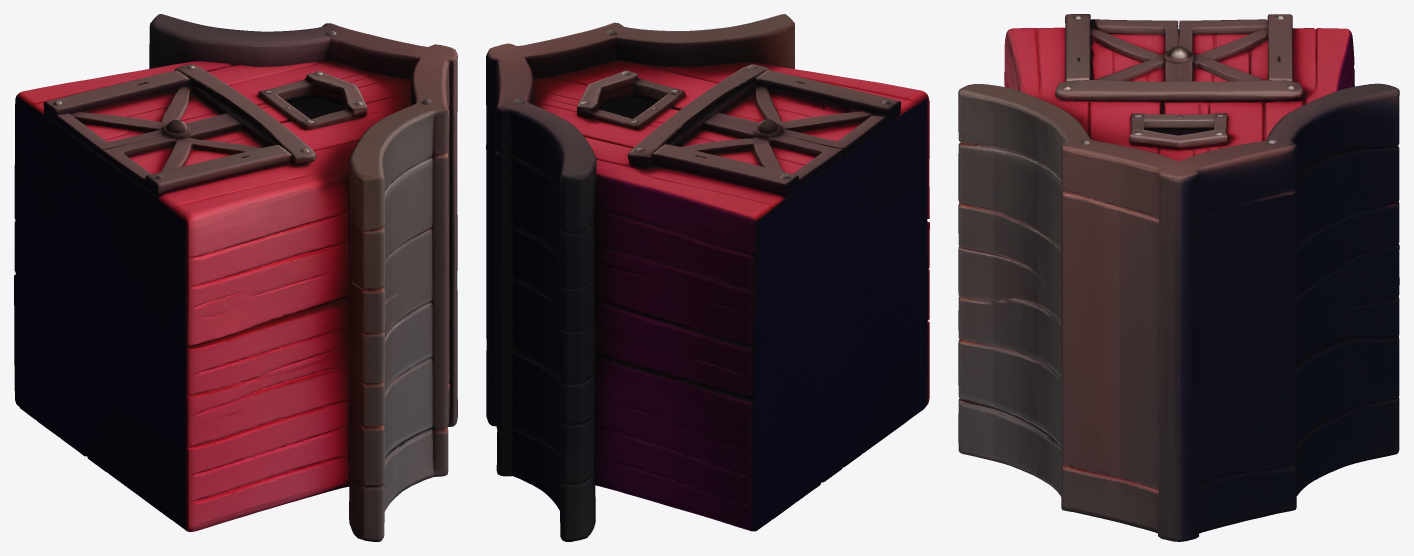
File: big_barn_comfyui.glb
3 views of the same model, side by side, from view 1: azimuth 30°, elevation 25°; view 2: azimuth 150°, elevation 25°; view 3: azimuth 270°, elevation 25° (orthographic).
Bounding box in the file's own units: 0.9277 × 0.9253 × 1.
Materials: 1 (1 with a texture image).
